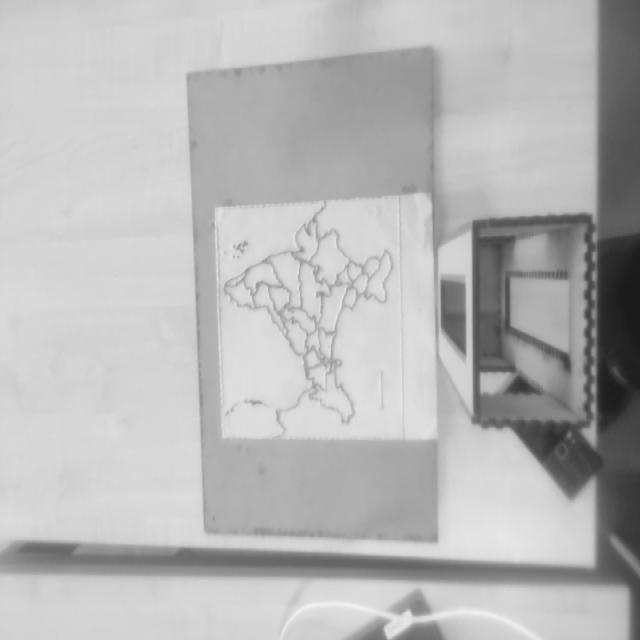map: (216, 196, 404, 443)
